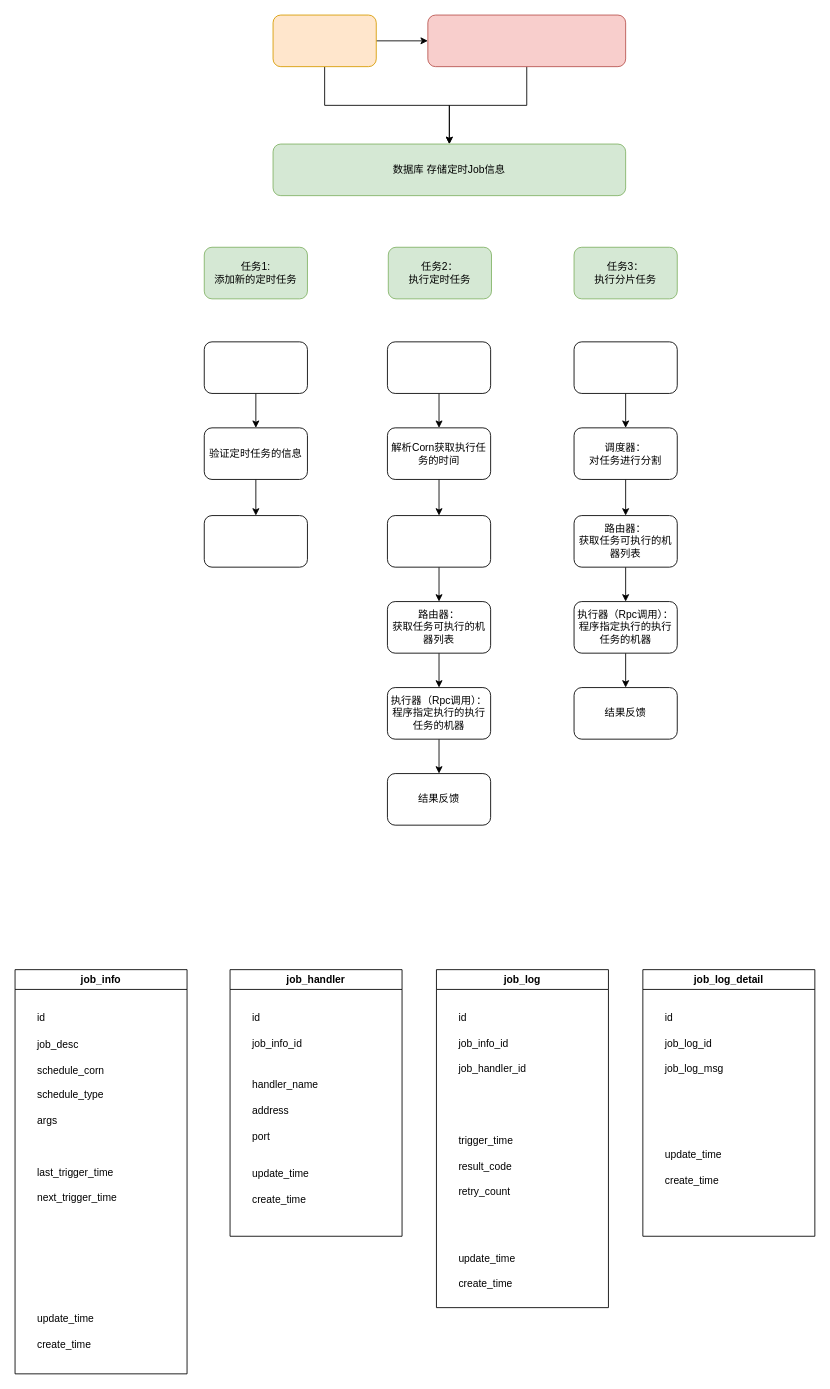
Some shapes in this 830 by 1389 pixel diagram are drawn without their labels. The centre of each missing label's shape, as x and y in pixels:
"admin 接收定时Job" goes at (x=324, y=40).
"执行器：选择合适的任务，调用机器去执行" goes at (x=526, y=40).
"添加到数据库" goes at (x=255, y=541).
"添加定时任务的基本信息" goes at (x=255, y=367).
"获取执行任务的类别" goes at (x=439, y=541).
"调度器： 启动定时任务" goes at (x=439, y=367).
"调度器： 获取分片任务" goes at (x=625, y=367).
